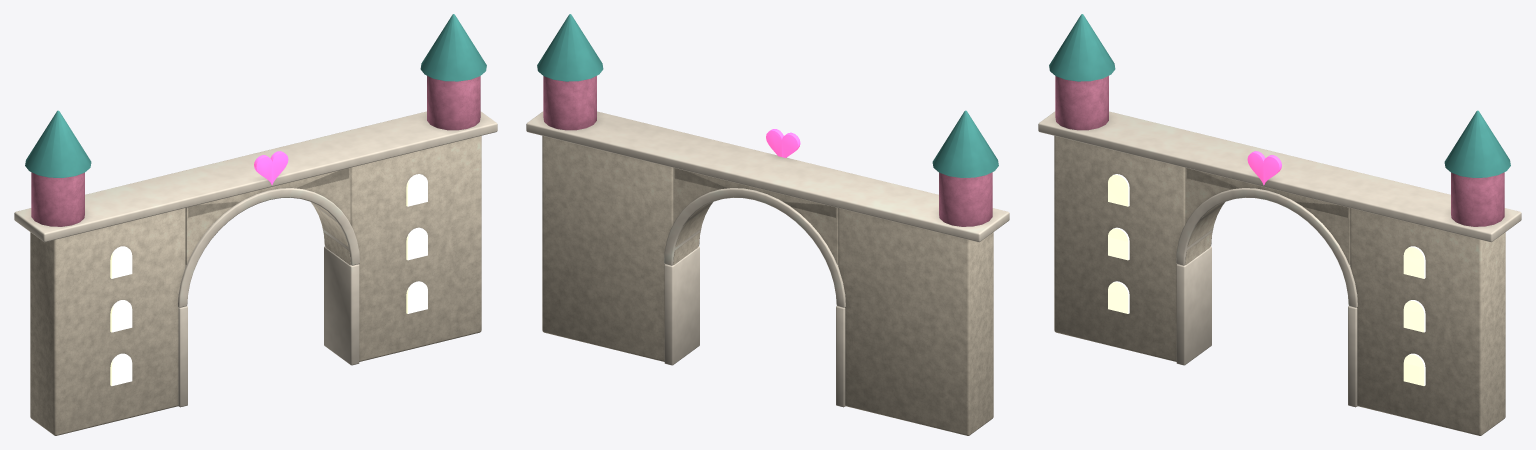
The model's file is rc_city_gate.glb.
The picture shows the model from 3 angles, left to right: view 1: azimuth 30°, elevation 25°; view 2: azimuth 150°, elevation 25°; view 3: azimuth 330°, elevation 25°; orthographic projection.
Visible parts, largest first — view 1: rc_city_gate; view 2: rc_city_gate; view 3: rc_city_gate.
Part boxes in pixels (x1,y1,x2,y2): rc_city_gate: [14, 14, 497, 435]; rc_city_gate: [526, 14, 1009, 435]; rc_city_gate: [1038, 14, 1521, 435].
Bounding box in the file's own units: 31 × 20.45 × 3.96.
6 materials, 6 textured.
